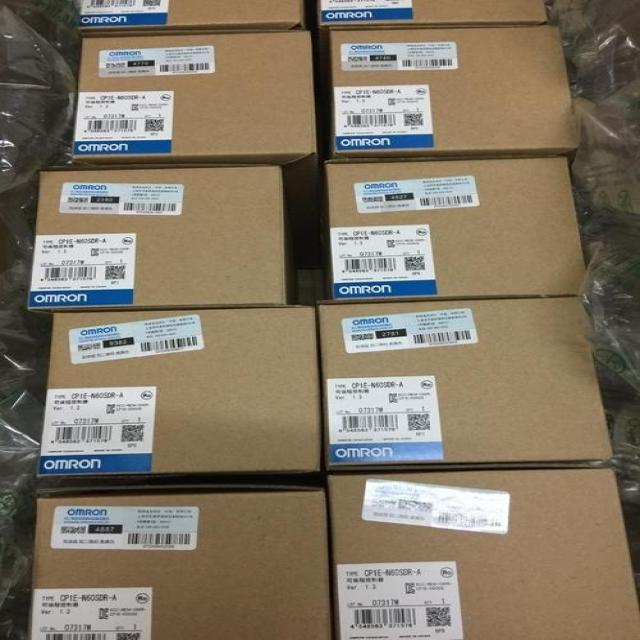box: (72, 31, 321, 270), (329, 467, 640, 640), (316, 297, 614, 470), (36, 304, 321, 479), (28, 486, 333, 640), (27, 164, 300, 323), (321, 154, 586, 299), (330, 25, 579, 159), (317, 0, 548, 59), (78, 0, 305, 32)
